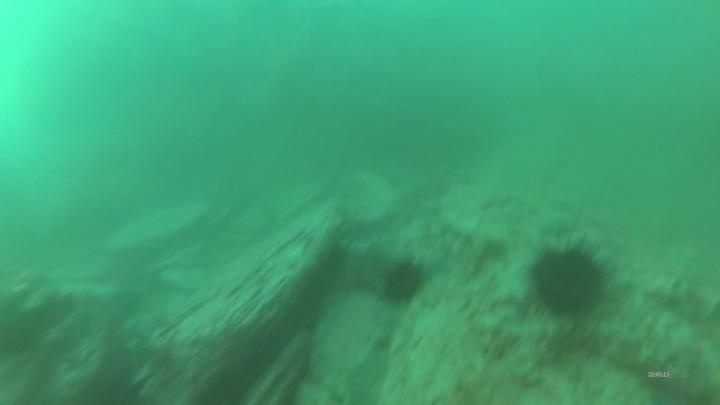echinus: (525, 235, 613, 323), (379, 257, 429, 307)
